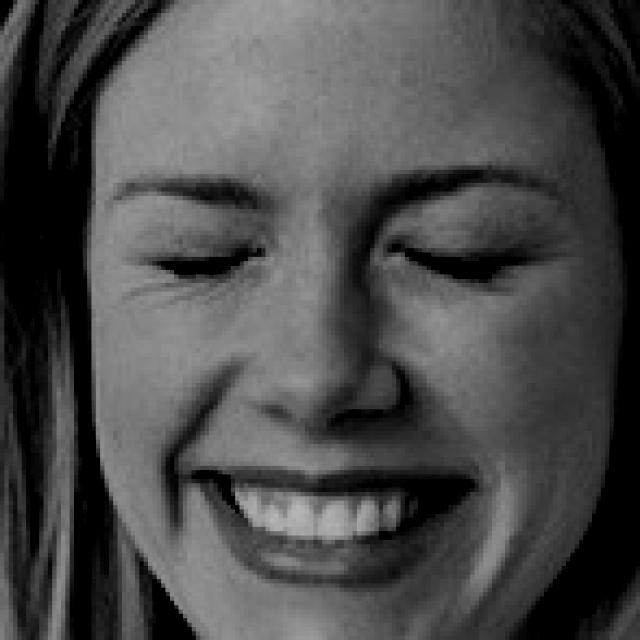real: (80, 32, 634, 630), (144, 204, 550, 302)
